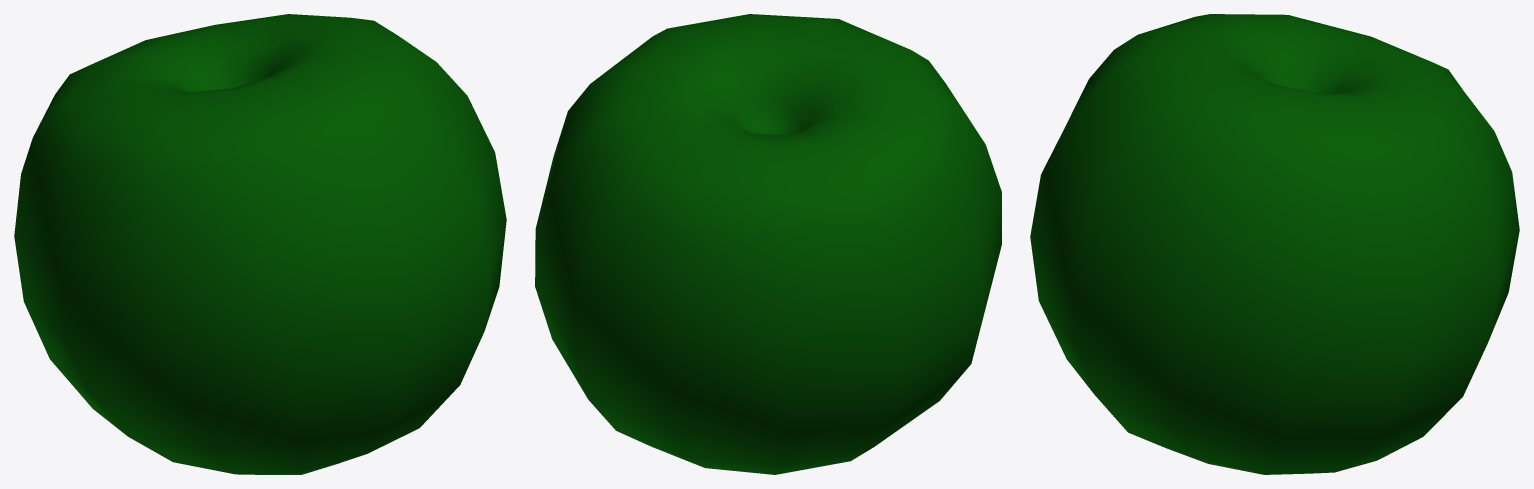
File: fruit02.FBX
3 views of the same model, side by side, from view 1: azimuth 30°, elevation 25°; view 2: azimuth 150°, elevation 25°; view 3: azimuth 270°, elevation 25° (orthographic). The views are drawn at different scales.
Parts seen in each view (by area): view 1: SM_fruit02_0; view 2: SM_fruit02_0; view 3: SM_fruit02_0.
Boxes of the visible parts, x1,y1,x2,y2 form: SM_fruit02_0: [14, 14, 506, 474]; SM_fruit02_0: [535, 14, 1001, 474]; SM_fruit02_0: [1030, 14, 1519, 474].
Bounding box in the file's own units: 9.49 × 9.76 × 8.63.
